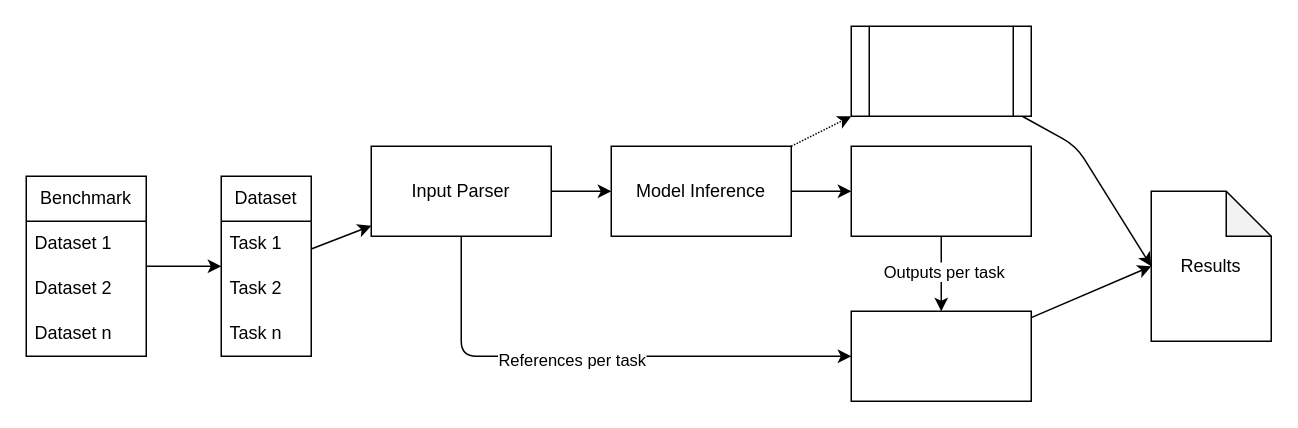
Image size: 1298x428. Some labels were removed from this diagram. Here are the shapes that lost their labels. From the top down, the centre of each, then its label:
point 940,70: Runtime statistics
point 940,190: Output Parser
point 940,355: Metric Evaluation
